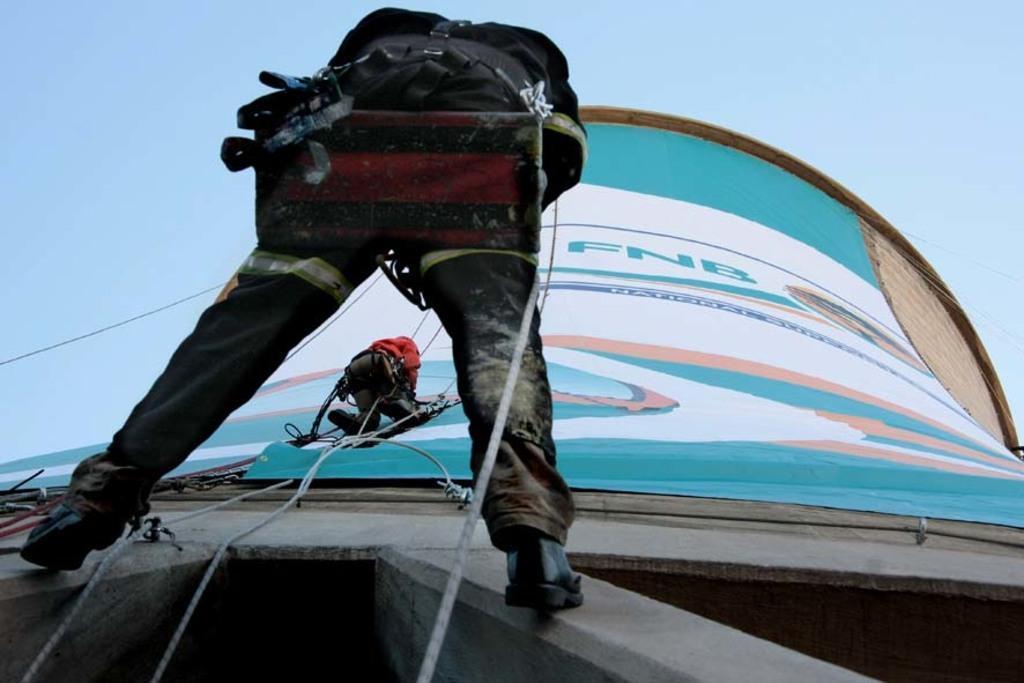Luggage-and-bags: (216, 6, 588, 250)
